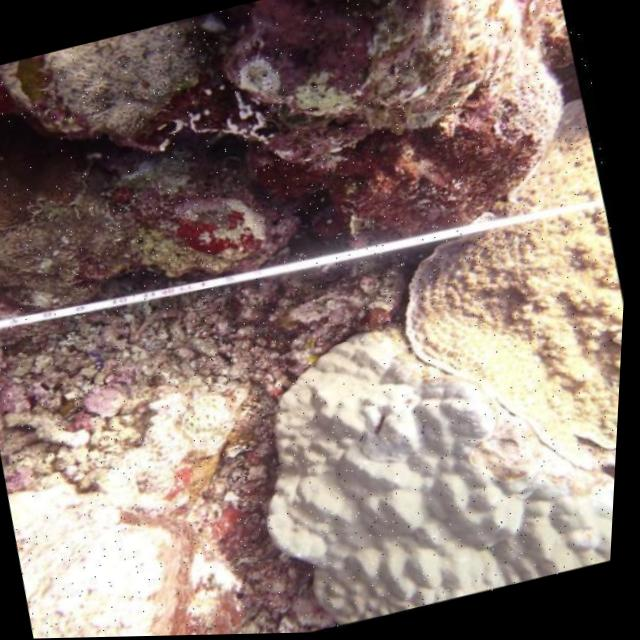Bleached Coral: (208, 268, 629, 636), (0, 400, 256, 640)
